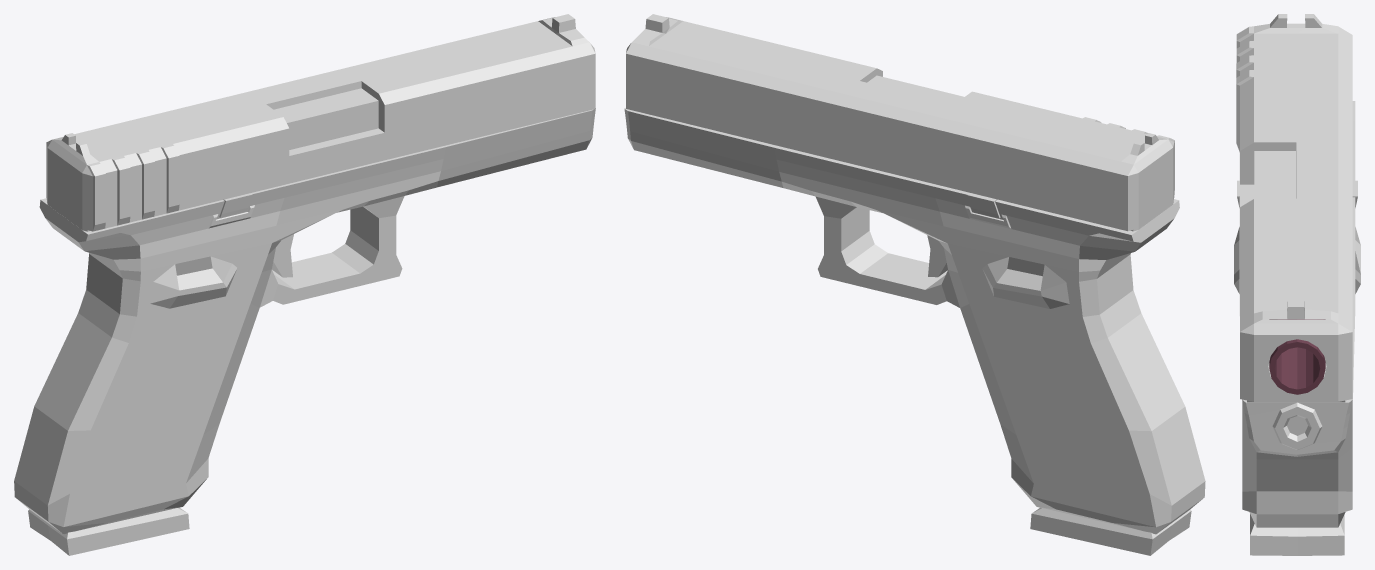
File: Glock.fbx
3 renders of one model, left to right at view 1: azimuth 30°, elevation 25°; view 2: azimuth 150°, elevation 25°; view 3: azimuth 270°, elevation 25°, orthographic. The views are drawn at different scales.
Visible parts, largest first — view 1: Glock_20; view 2: Glock_20; view 3: Glock_20.
Part boxes in pixels (bbox=[...]): Glock_20: bbox=[14, 14, 595, 555]; Glock_20: bbox=[624, 14, 1205, 555]; Glock_20: bbox=[1234, 14, 1360, 555].
Bounding box in the file's own units: 1032 × 721 × 171.
